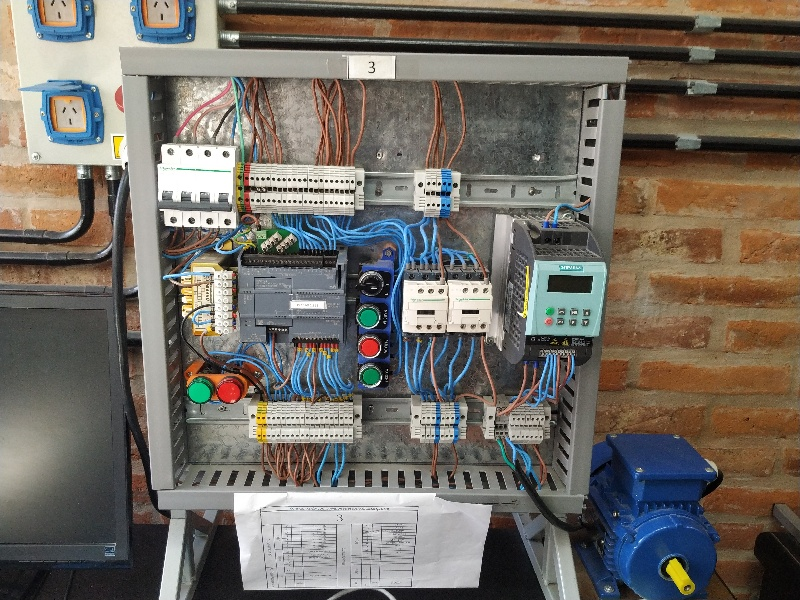Tablero 3: (137, 67, 609, 508)
